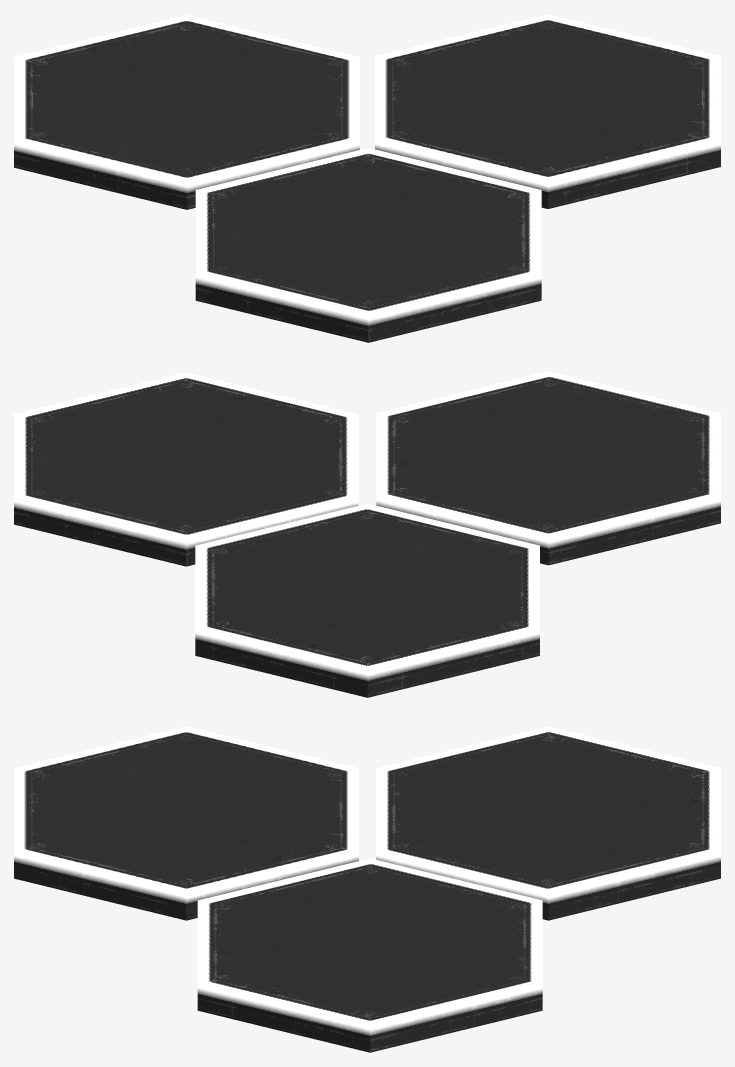
The model's file is ARC1110071.fbx.
The picture shows the model from 3 angles, top to bottom: view 1: azimuth 30°, elevation 25°; view 2: azimuth 150°, elevation 25°; view 3: azimuth 270°, elevation 25°; orthographic projection.
Visible parts, largest first — view 1: smARC1110071; view 2: smARC1110071; view 3: smARC1110071.
Part boxes in pixels (x1,y1,x2,y2): smARC1110071: (14,14,720,342); smARC1110071: (14,371,720,697); smARC1110071: (14,726,720,1052).
Size of the model in its own units: 358 by 14.52 by 356.
Materials: 1 (1 with a texture image).
